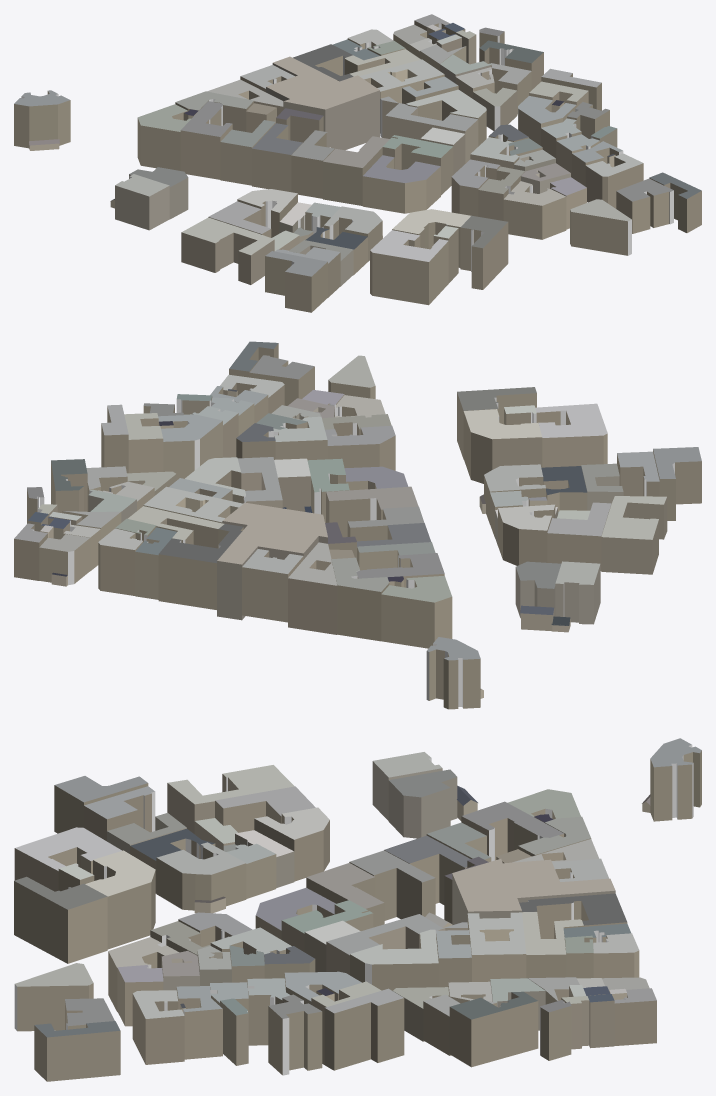
3 renders of one model, top to bottom at view 1: azimuth 30°, elevation 25°; view 2: azimuth 150°, elevation 25°; view 3: azimuth 270°, elevation 25°, orthographic. The views are drawn at different scales.
Visible parts, largest first — view 1: tuile; view 2: tuile; view 3: tuile.
Boxes of the visible parts, left/top/right/bottom form: tuile: left=14, top=14, right=701, bottom=312; tuile: left=14, top=341, right=701, bottom=709; tuile: left=14, top=738, right=701, bottom=1081.
Size of the model in its own units: 271 by 34.19 by 276.
